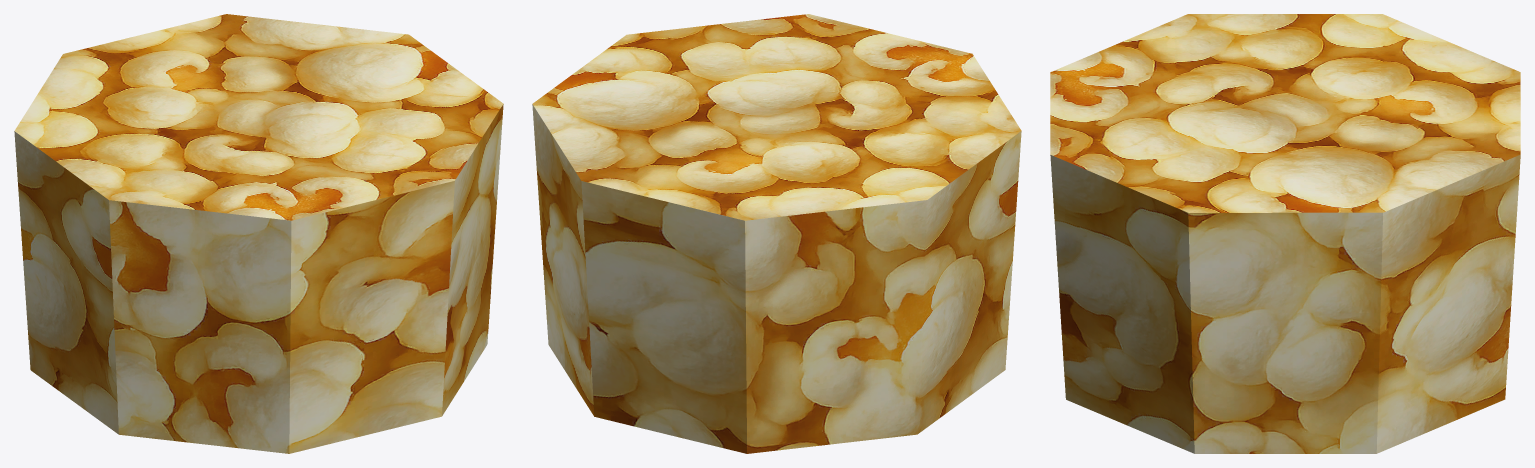
The model's file is SM_Prop_Bar_Glass_Empty_07.001.obj.
3 views of the same model, side by side, from view 1: azimuth 30°, elevation 25°; view 2: azimuth 150°, elevation 25°; view 3: azimuth 270°, elevation 25° (orthographic). The views are drawn at different scales.
Parts seen in each view (by area): view 1: SM_Prop_Bar_Glass_Empty_07.001_0; view 2: SM_Prop_Bar_Glass_Empty_07.001_0; view 3: SM_Prop_Bar_Glass_Empty_07.001_0.
Part boxes in pixels (x1,y1,x2,y2): SM_Prop_Bar_Glass_Empty_07.001_0: (14,14,503,453); SM_Prop_Bar_Glass_Empty_07.001_0: (532,14,1021,453); SM_Prop_Bar_Glass_Empty_07.001_0: (1050,14,1520,453).
Bounding box in the file's own units: 0.1026 × 0.0596 × 0.1026.
1 material, 1 textured.
